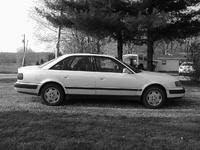car: (16, 56, 187, 108)
